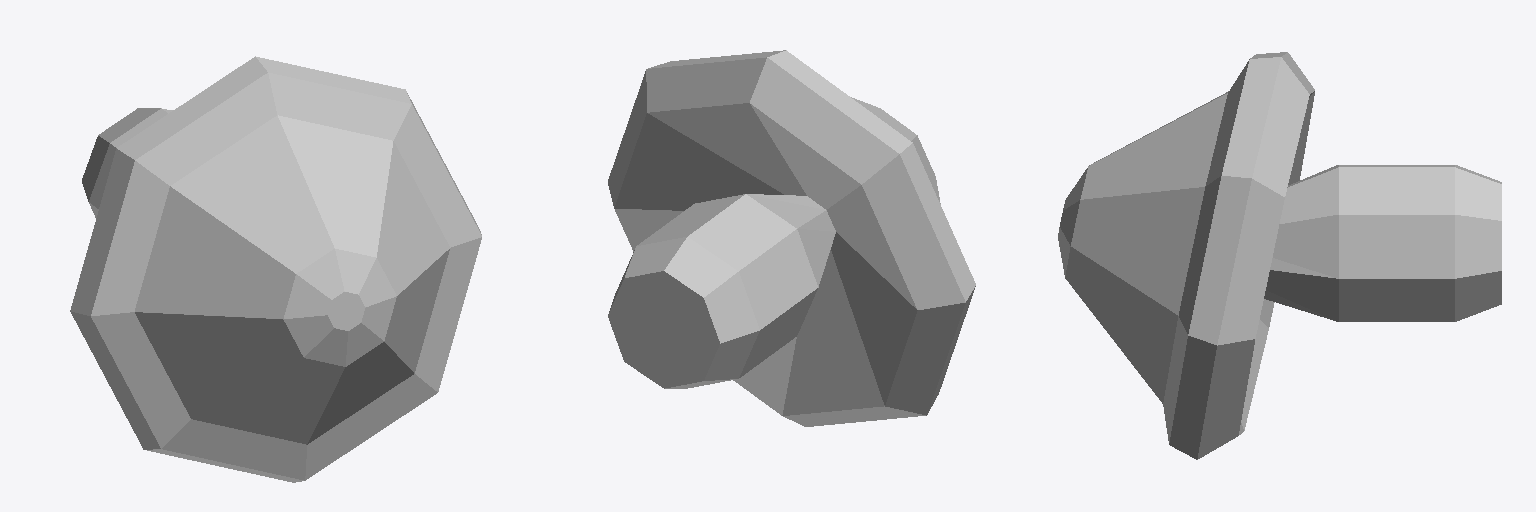
File: mushroomjump.obj
3 renders of one model, left to right at view 1: azimuth 30°, elevation 25°; view 2: azimuth 150°, elevation 25°; view 3: azimuth 270°, elevation 25°, orthographic.
Parts seen in each view (by area): view 1: Cylinder02; view 2: Cylinder02; view 3: Cylinder02.
Boxes of the visible parts, box(x1,y1,x2,y2) form: Cylinder02: box(70, 56, 481, 482); Cylinder02: box(608, 50, 975, 426); Cylinder02: box(1058, 52, 1501, 459).
Size of the model in its own units: 1.57 by 1.56 by 1.58.